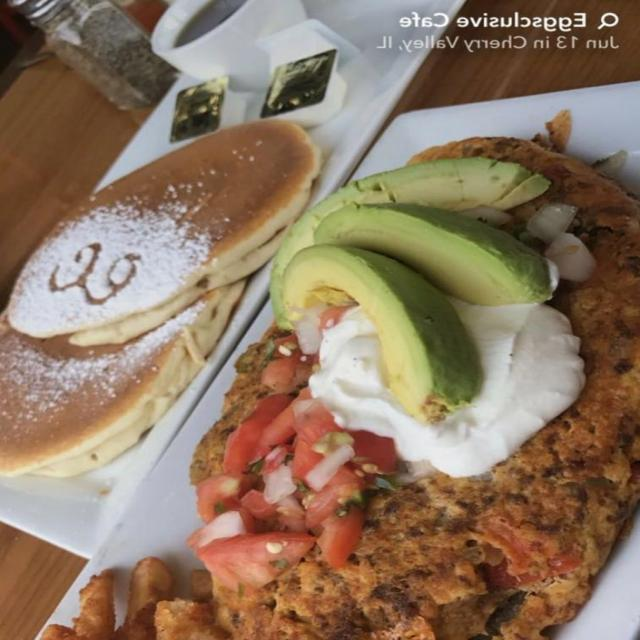French Fries: (46, 539, 202, 639)
Omelette: (209, 114, 635, 638)
Pancakes: (1, 113, 313, 490)
